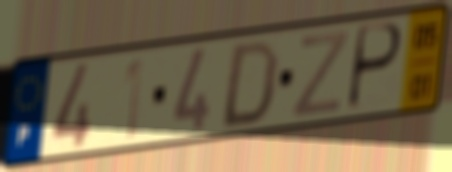1: (123, 56, 145, 139)
4: (49, 58, 95, 154), (171, 45, 213, 137)
D: (217, 37, 282, 132)
P: (343, 20, 405, 115)
Z: (289, 27, 351, 120)
